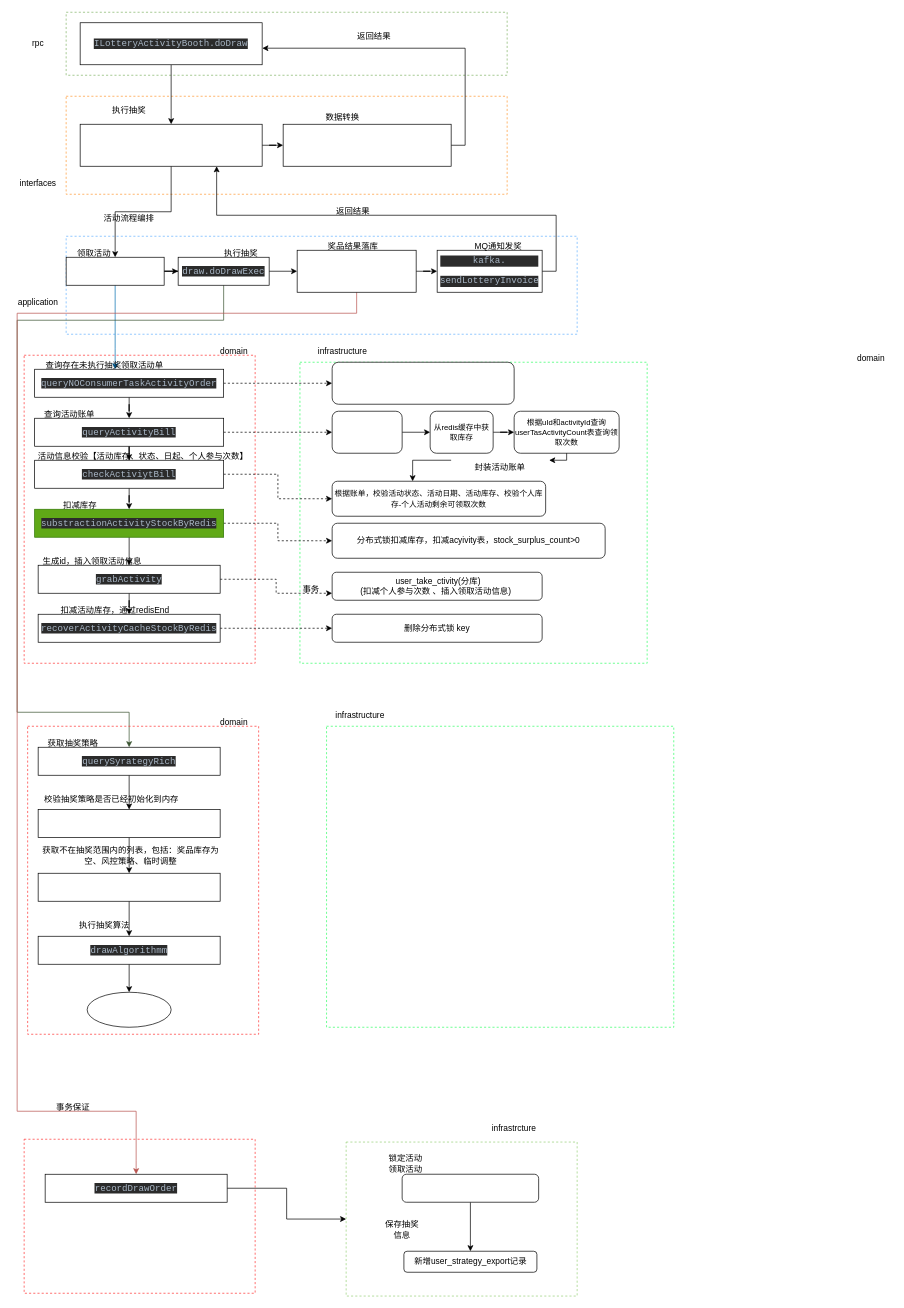
Image size: 904x1308. Some labels were removed from this diagram. Each missing label, with the box of its shape:
activity.doParke: (65, 257, 164, 285)
activityPartake. recordDrawOrder: (296, 250, 416, 292)
ActivityProcess.doDrawProcess: (79, 124, 262, 166)
awardMapping.sourceToTarget: (282, 124, 451, 166)
checkAndInitRateData: (37, 809, 220, 838)
queryExclueAwardIds: (37, 873, 220, 901)
包装中奖结果: (86, 992, 171, 1027)
根据activityId 查询activity表获取活动信息: (331, 411, 402, 453)
根据uId 和ActivityId 查询表user_task_activity: (331, 362, 514, 404)
锁定user_take_activity，state=1: (401, 1174, 539, 1202)
